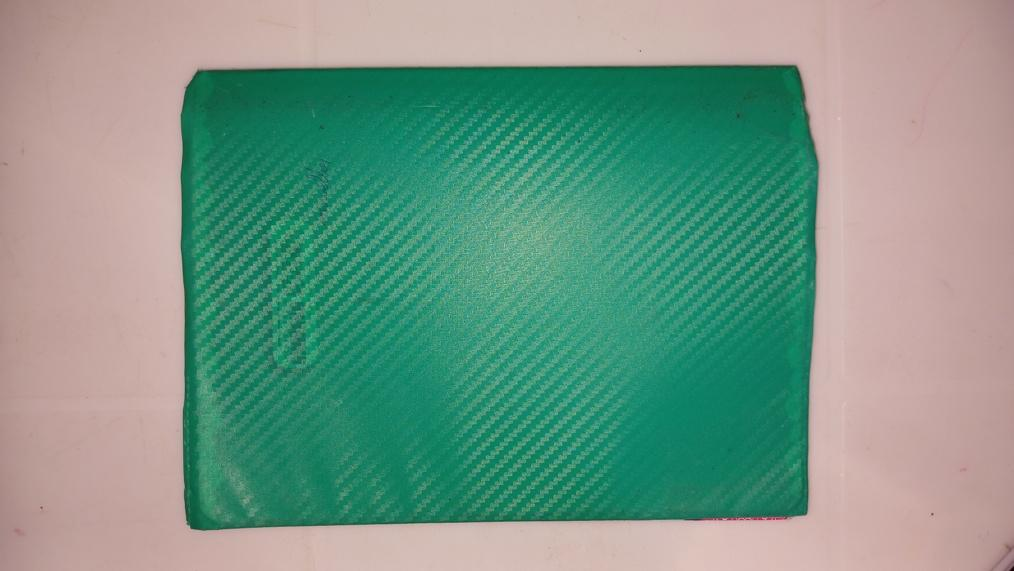notebook: (183, 62, 813, 524)
